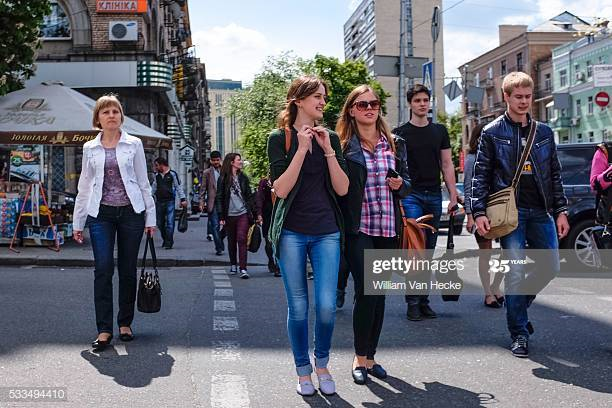without_mask: (300, 87, 327, 120), (352, 95, 381, 121), (507, 85, 533, 113), (411, 90, 429, 116), (100, 105, 120, 127)
